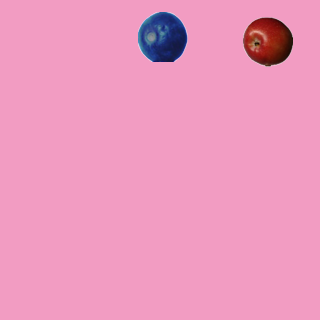Apple Braeburn: (242, 16, 292, 66)
Huckleberry: (137, 11, 187, 61)
